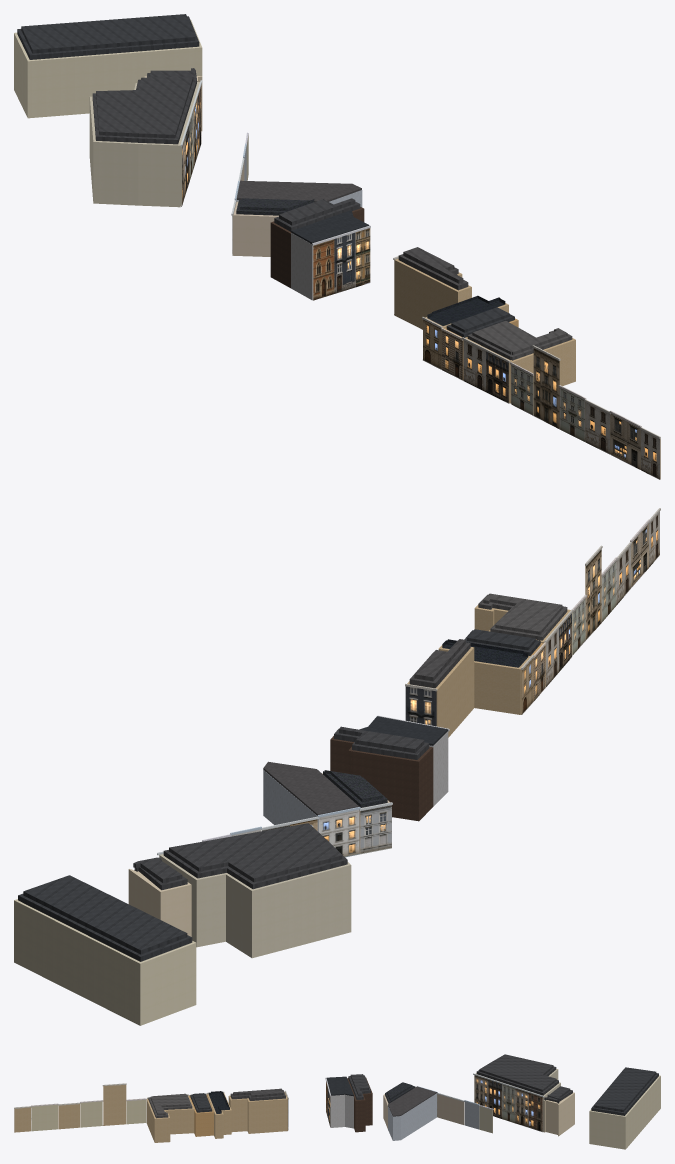
3 views of the same model, one above another, from view 1: azimuth 30°, elevation 25°; view 2: azimuth 150°, elevation 25°; view 3: azimuth 270°, elevation 25° (orthographic). The views are drawn at different scales.
Visible parts, largest first — view 1: bldg_498882479, bldg_498900438, bldg_498900438_roof_b, bldg_498882479_roof_b, bldg_498078015, bldg_494692183_facade1, bldg_494692179_roof, bldg_498078009_facade0, bldg_498078007_facade0, bldg_494692180, bldg_498078009_roof_b, bldg_498900438_facade0 (+19 smaller); view 2: bldg_498882479, bldg_498900438, bldg_498900438_roof_b, bldg_498882479_roof_b, bldg_494692184, bldg_494692179_roof, bldg_498900437, bldg_498078011, bldg_498078015, bldg_498078009_roof_b, bldg_494692179_facade0, bldg_494692179 (+16 smaller); view 3: bldg_498882479, bldg_498900438_facade0, bldg_498078015, bldg_498900438_roof_b, bldg_498882479_roof_b, bldg_498078009, bldg_494692179, bldg_498900437, bldg_498078007_facade0, bldg_494692183, bldg_494692179_roof, bldg_498078004_facade0 (+24 smaller).
Part boxes in pixels (left/top/right/bottom): bldg_498882479: left=14, top=19, right=202, bottom=118; bldg_498900438: left=89, top=82, right=199, bottom=207; bldg_498900438_roof_b: left=96, top=77, right=193, bottom=138; bldg_498882479_roof_b: left=21, top=14, right=195, bottom=53; bldg_498078015: left=394, top=258, right=471, bottom=329; bldg_494692183_facade1: left=312, top=230, right=356, bottom=300; bldg_494692179_roof: left=237, top=180, right=361, bottom=201; bldg_498078009_facade0: left=461, top=337, right=510, bottom=403; bldg_498078007_facade0: left=532, top=345, right=560, bottom=429; bldg_494692180: left=233, top=201, right=278, bottom=256; bldg_498078009_roof_b: left=472, top=320, right=567, bottom=354; bldg_498900438_facade0: left=180, top=80, right=202, bottom=206; bldg_498882479: left=14, top=899, right=196, bottom=1025; bldg_498900438: left=159, top=854, right=351, bottom=958; bldg_498900438_roof_b: left=169, top=823, right=342, bottom=882; bldg_498882479_roof_b: left=23, top=875, right=187, bottom=954; bldg_494692184: left=330, top=736, right=433, bottom=821; bldg_494692179_roof: left=263, top=761, right=358, bottom=815; bldg_498900437: left=128, top=869, right=191, bottom=936; bldg_498078011: left=438, top=645, right=530, bottom=714; bldg_498078015: left=407, top=647, right=474, bottom=737; bldg_498078009_roof_b: left=483, top=593, right=562, bottom=634; bldg_494692179_facade0: left=317, top=807, right=360, bottom=857; bldg_494692179: left=263, top=770, right=318, bottom=831; bldg_498882479: left=589, top=1075, right=660, bottom=1149; bldg_498900438_facade0: left=473, top=1073, right=544, bottom=1132; bldg_498078015: left=228, top=1091, right=287, bottom=1133; bldg_498900438_roof_b: left=479, top=1054, right=556, bottom=1091; bldg_498882479_roof_b: left=594, top=1067, right=656, bottom=1112; bldg_498078009: left=146, top=1095, right=194, bottom=1142; bldg_494692179: left=388, top=1093, right=436, bottom=1140; bldg_498900437: left=543, top=1092, right=574, bottom=1136; bldg_498078007_facade0: left=102, top=1083, right=126, bottom=1125; bldg_494692183: left=327, top=1081, right=353, bottom=1128; bldg_494692179_roof: left=388, top=1086, right=436, bottom=1116; bldg_498078004_facade0: left=31, top=1103, right=58, bottom=1131.
Size of the model in its own units: 48.3 by 16.02 by 231.
36 materials, 20 textured.
